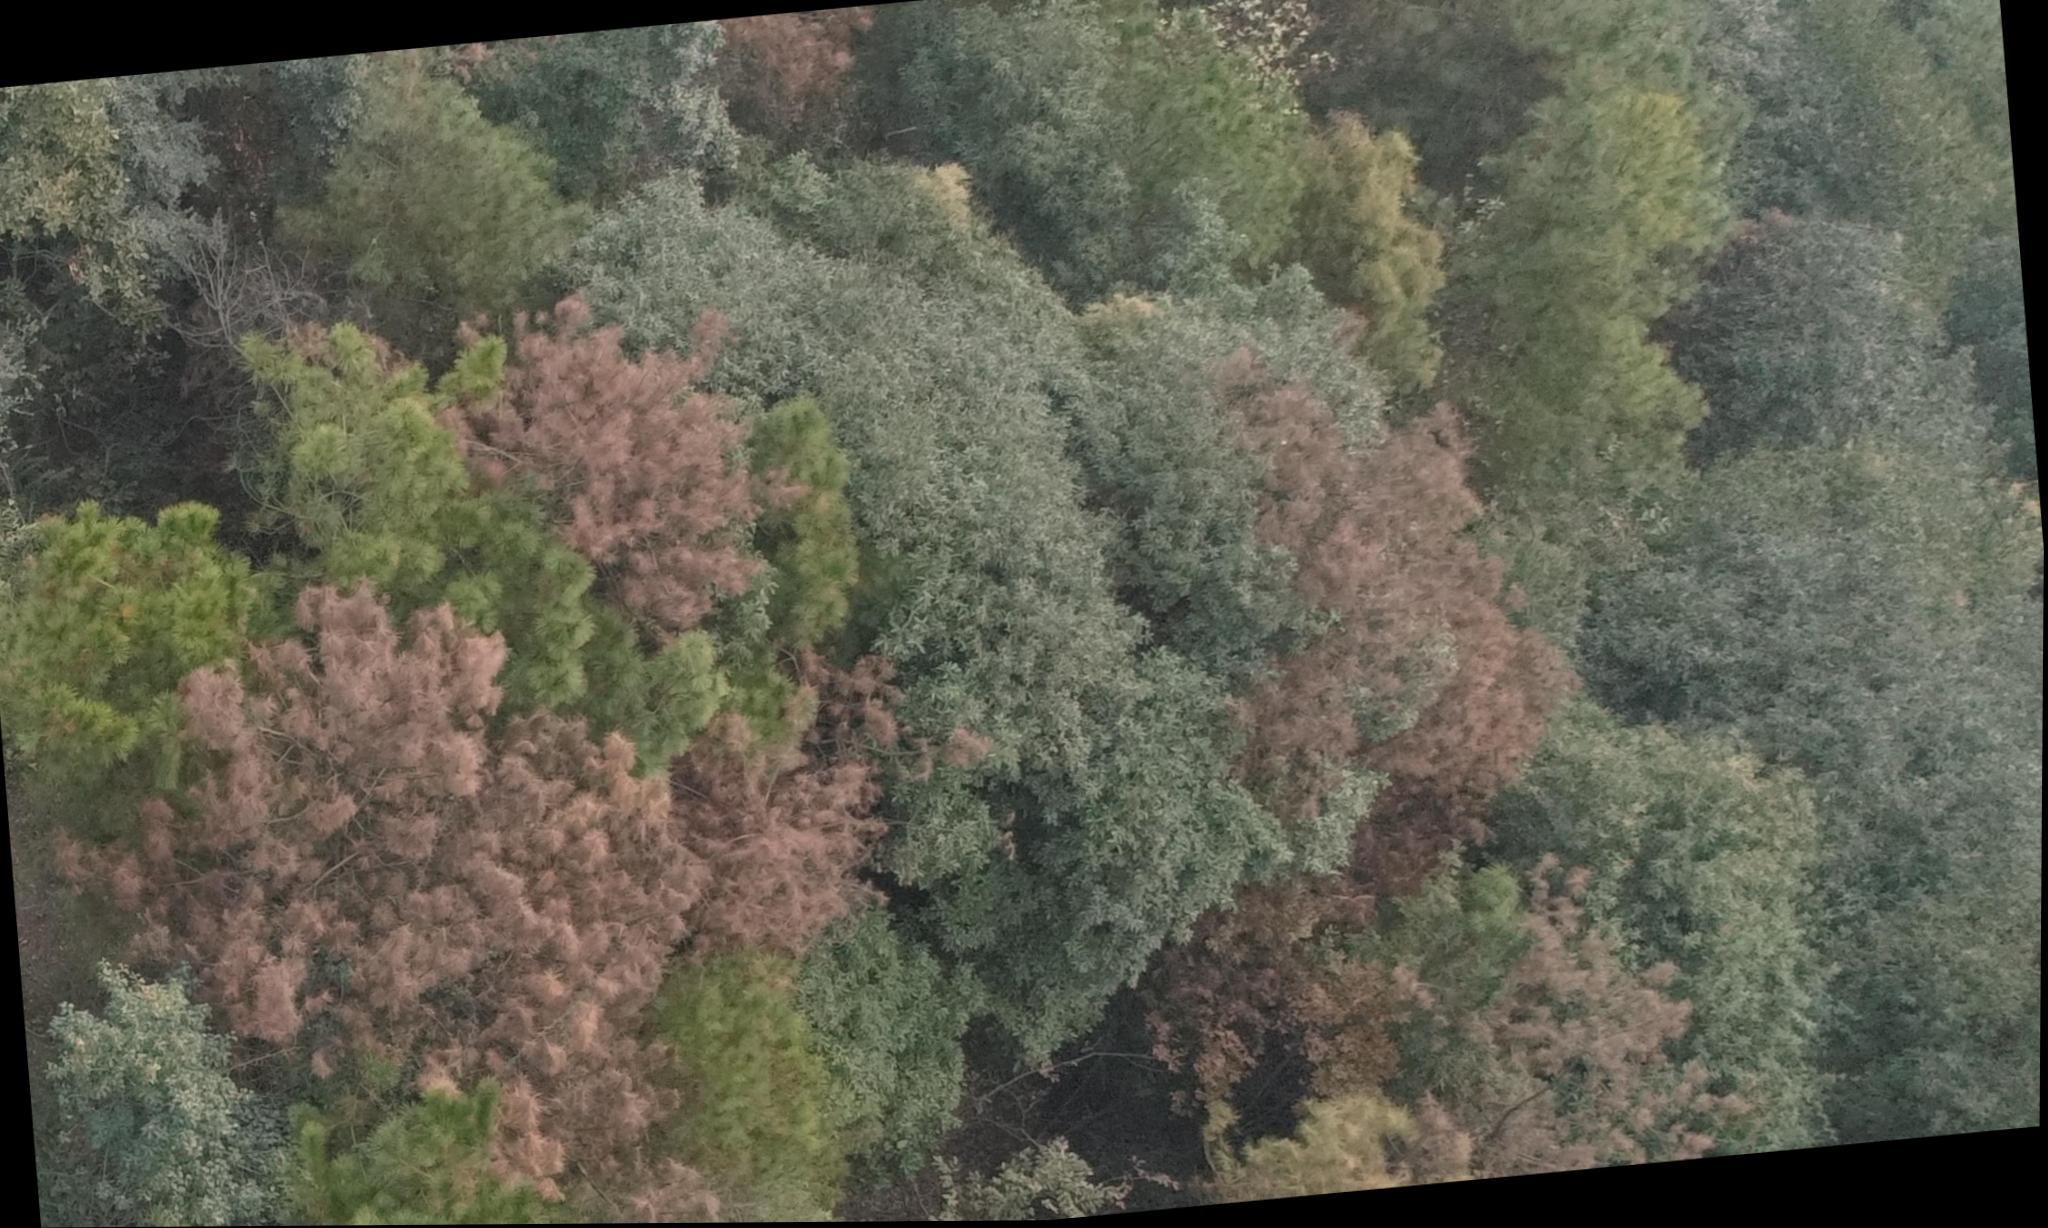heavy: (0, 566, 716, 1208), (998, 345, 1609, 1072), (411, 301, 800, 675)
